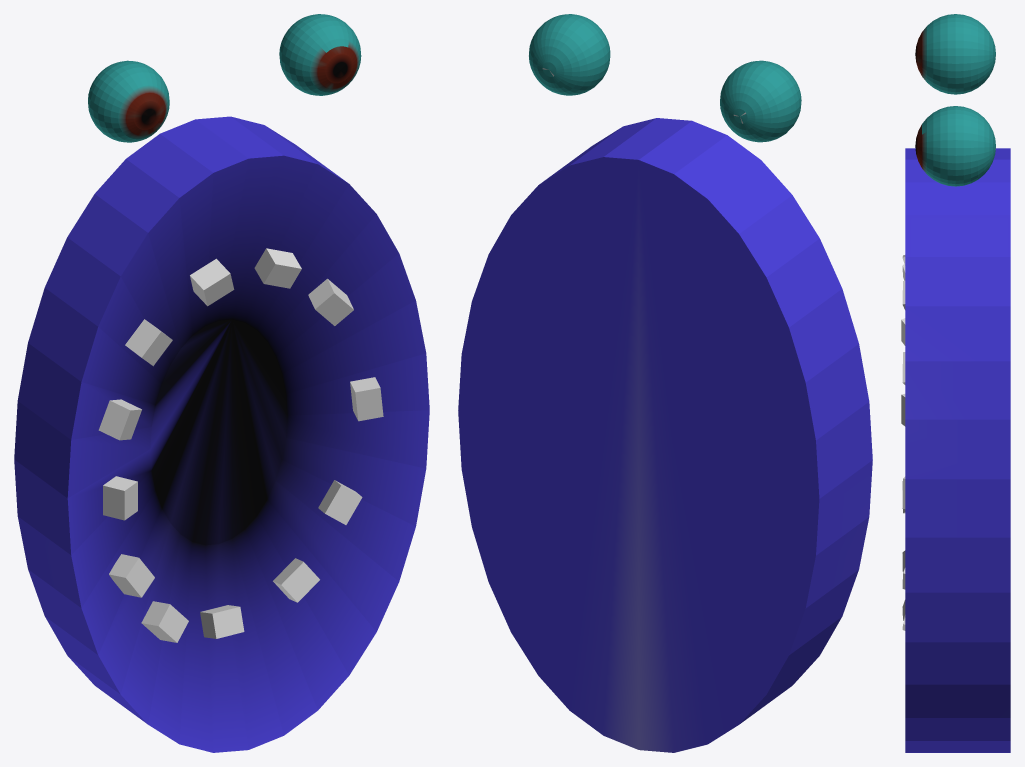
File: Zero.fbx
3 views of the same model, side by side, from view 1: azimuth 30°, elevation 25°; view 2: azimuth 150°, elevation 25°; view 3: azimuth 270°, elevation 25° (orthographic).
Visible parts, largest first — view 1: Cylinder, Cube.004, Cube.003, Cube, Cube.011, Cube.010, Cube.005, Cube.001, Cube.009, Cube.006, Cube.002, Cube.008 (+1 smaller); view 2: Cylinder; view 3: Cylinder.
Boxes of the visible parts, box(x1,y1,x2,y2) form: Cylinder: box(14, 14, 429, 752); Cube.004: box(254, 248, 301, 288); Cube.003: box(190, 258, 234, 306); Cube: box(103, 476, 137, 520); Cube.011: box(109, 554, 154, 597); Cube.010: box(141, 601, 188, 642); Cube.005: box(308, 278, 353, 325); Cube.001: box(98, 399, 141, 440); Cube.009: box(200, 605, 244, 638); Cube.006: box(350, 377, 383, 421); Cube.002: box(125, 319, 172, 366); Cube.008: box(273, 558, 319, 602); Cylinder: box(458, 14, 872, 752); Cylinder: box(905, 14, 1010, 752).
Bounding box in the file's own units: 200 × 364 × 53.07.
